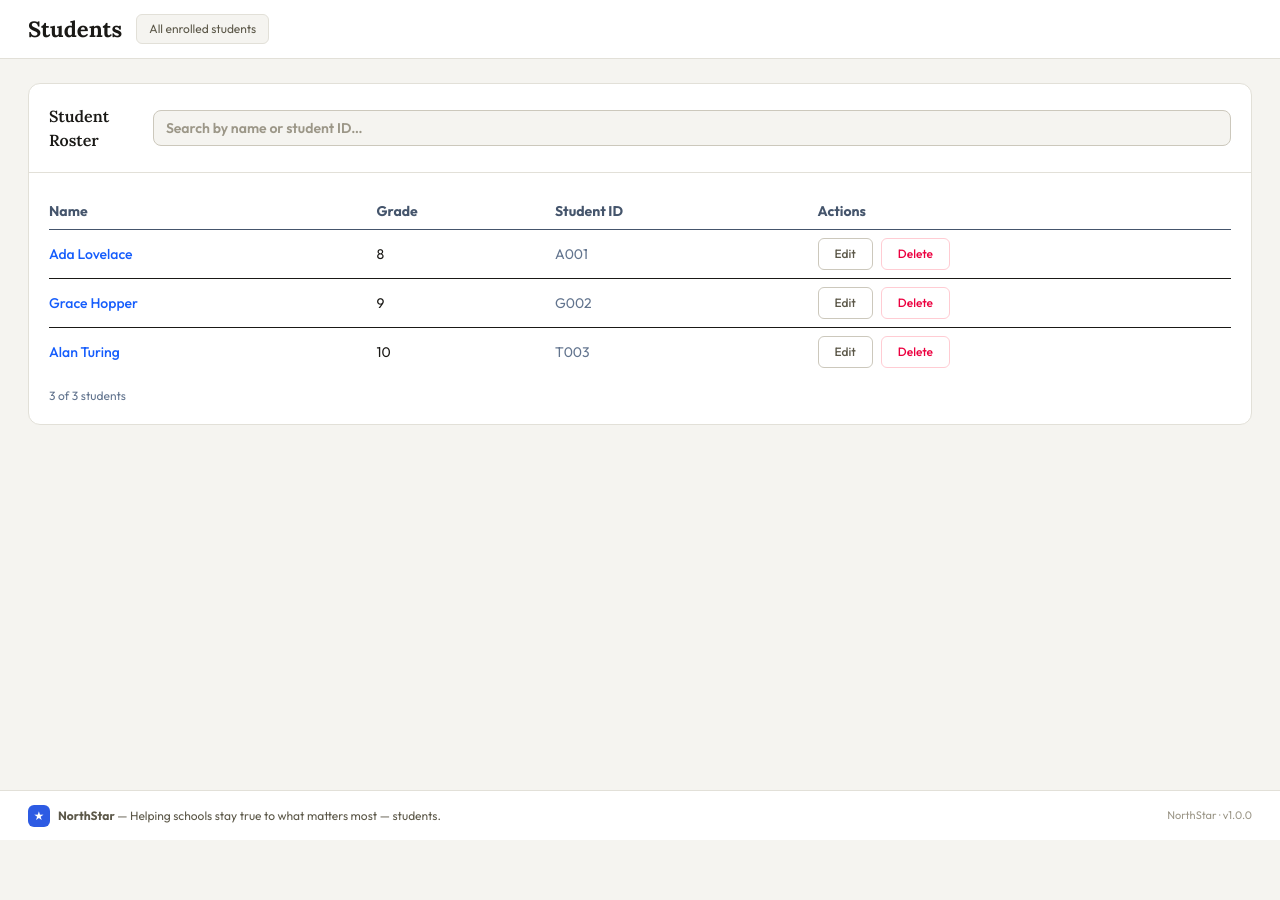
Scenario: StudentRosterPage › clicking Edit shows inline form with pre-filled values
Expected: the link "Ada Lovelace" is shown, [49, 245, 133, 263]
What coordinates should you click on to do the following:
click the button "Edit" in the row of "Ada"
I would click on:
 (845, 254)
Its box is [818, 238, 873, 270].
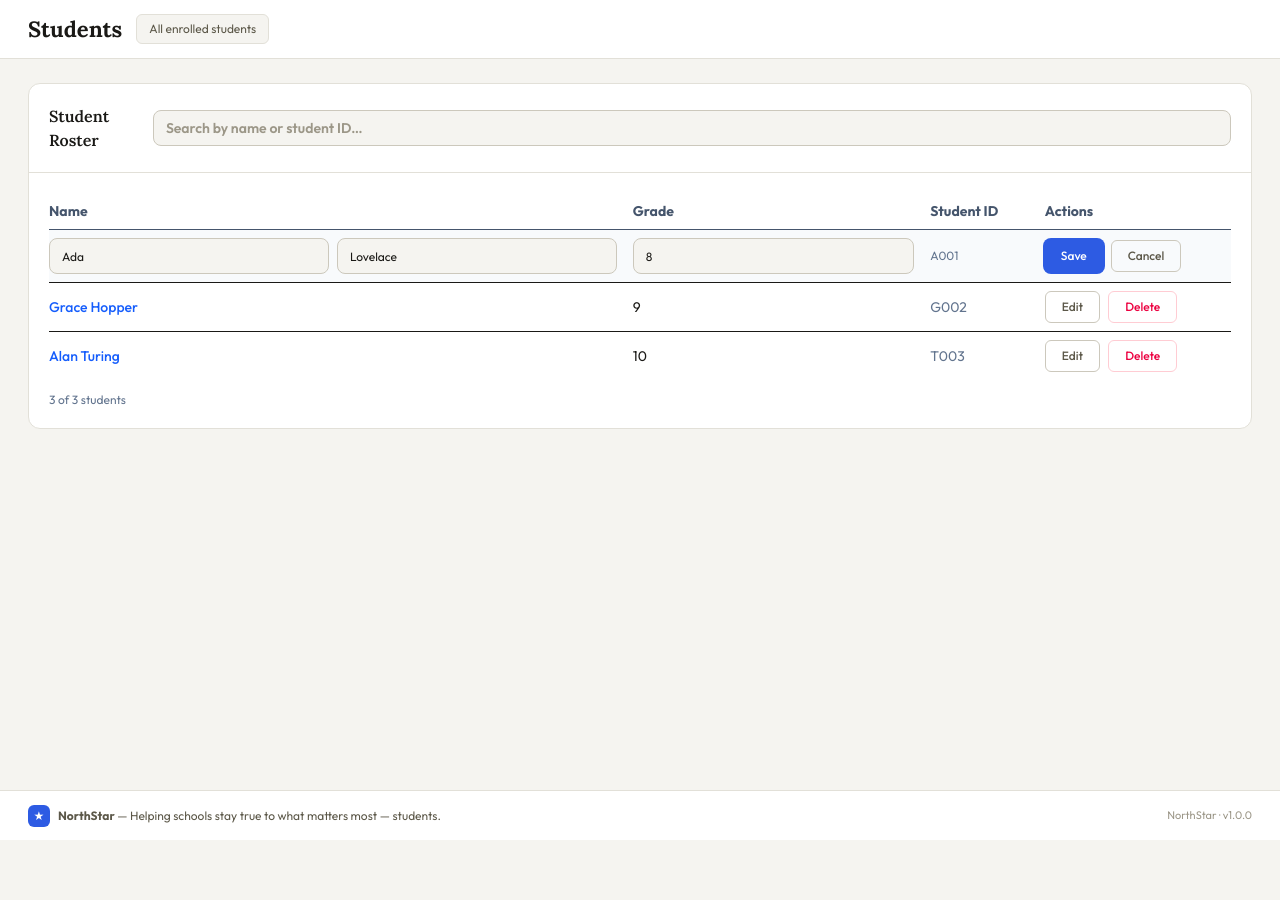
Now the 1st field showing "Ada" is shown, box [49, 238, 329, 274]
Now the 2nd field showing "Lovelace" is shown, box [337, 238, 617, 274]
Now the 3rd field showing "8" is shown, box [633, 238, 914, 274]
